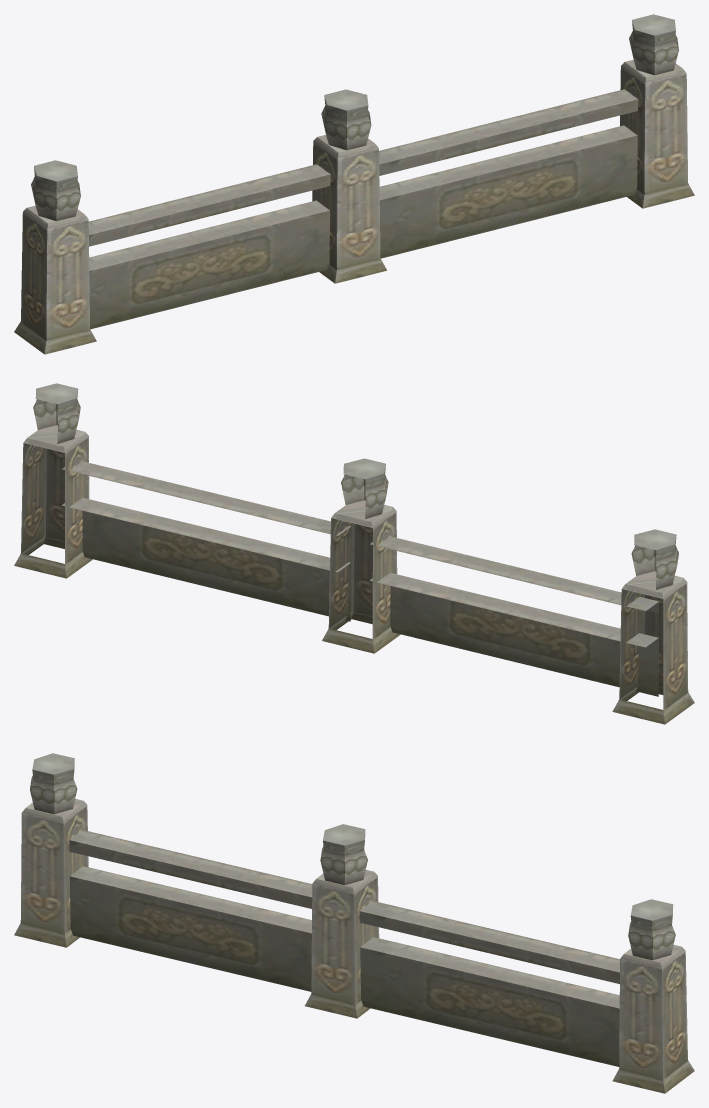
File: WSD_Item_01.FBX
3 views of the same model, one above another, from view 1: azimuth 30°, elevation 25°; view 2: azimuth 150°, elevation 25°; view 3: azimuth 330°, elevation 25° (orthographic).
Parts seen in each view (by area): view 1: WSD_Item_01; view 2: WSD_Item_01; view 3: WSD_Item_01.
Boxes of the visible parts, x1=… form: WSD_Item_01: x1=14, y1=14, x2=694, y2=354; WSD_Item_01: x1=14, y1=383, x2=694, y2=724; WSD_Item_01: x1=14, y1=753, x2=694, y2=1093.
Bounding box in the file's own units: 7.29 × 1.79 × 0.592.
1 material, 1 textured.
